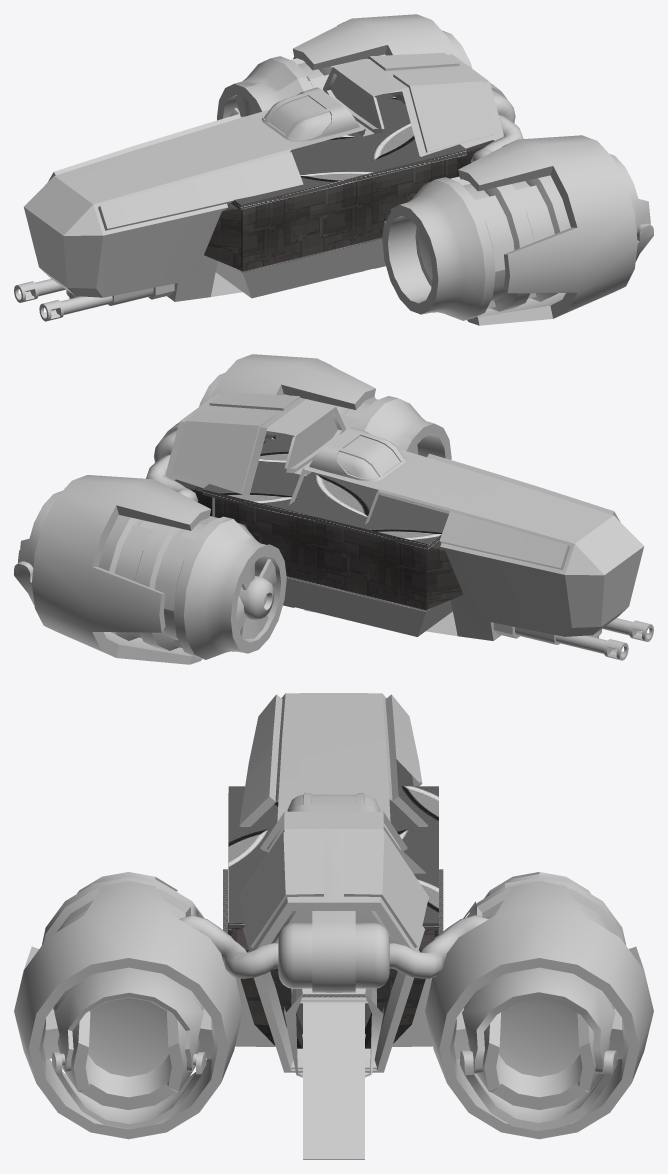
Rendered from Ship_Base.fbx.
3 views of the same model, one above another, from view 1: azimuth 30°, elevation 25°; view 2: azimuth 150°, elevation 25°; view 3: azimuth 270°, elevation 25° (orthographic). The views are drawn at different scales.
Visible parts, largest first — view 1: Ship, Плоскость, Куб.026, Куб.025, Gun, StopU.002; view 2: Ship, Плоскость, Куб.026, Куб.025, Gun, Vint.001, StopU.001, StopD.001; view 3: Ship, Куб.011, Куб.026, StopU.001, StopU.002, Плоскость, StopD.001, StopD.002, Куб.025.
Part boxes in pixels (x1,y1,x2,y2): Ship: (24, 14, 650, 325); Плоскость: (204, 94, 494, 271); Куб.026: (231, 93, 466, 210); Куб.025: (215, 237, 385, 298); Gun: (14, 279, 174, 321); StopU.002: (610, 154, 649, 232); Ship: (20, 354, 644, 664); Плоскость: (175, 434, 463, 610); Куб.026: (202, 433, 448, 549); Куб.025: (283, 576, 452, 636); Gun: (493, 618, 653, 660); Vint.001: (236, 559, 276, 639); StopU.001: (18, 491, 61, 567); StopD.001: (14, 561, 34, 605); Ship: (14, 693, 653, 1139); Куб.011: (303, 1003, 364, 1159); Куб.026: (228, 786, 438, 930); StopU.001: (462, 967, 615, 1073); StopU.002: (54, 967, 203, 1071); Плоскость: (228, 793, 438, 1048); StopD.001: (460, 1050, 617, 1131); StopD.002: (52, 1052, 206, 1129); Куб.025: (223, 869, 443, 1028).
Bounding box in the file's own units: 2313 × 845 × 2006.
